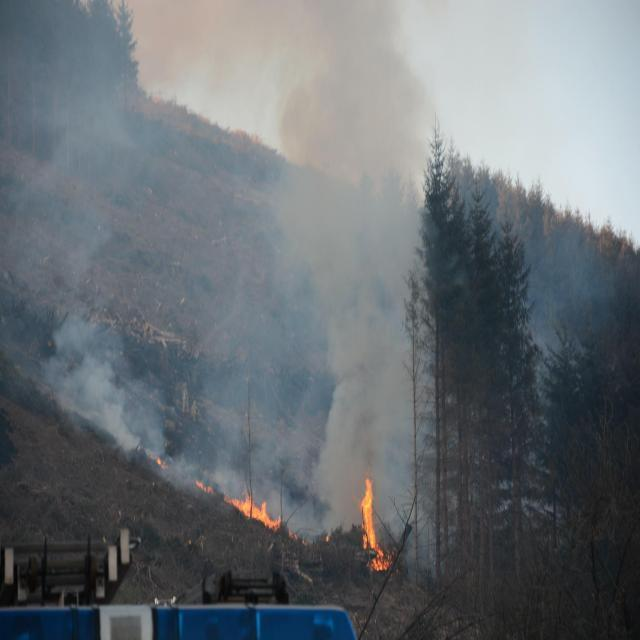Fire: (343, 461, 400, 583), (208, 469, 292, 544)
Smoke: (0, 2, 404, 459)
